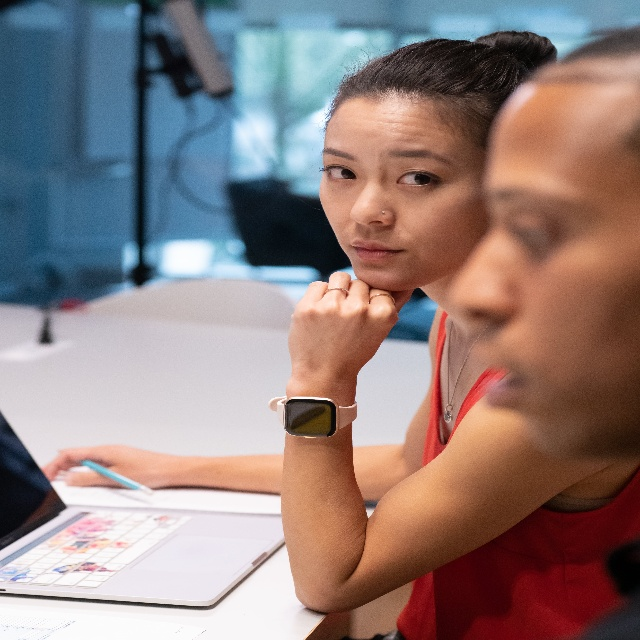Sin_guantes: (288, 271, 412, 382), (41, 444, 167, 492)
